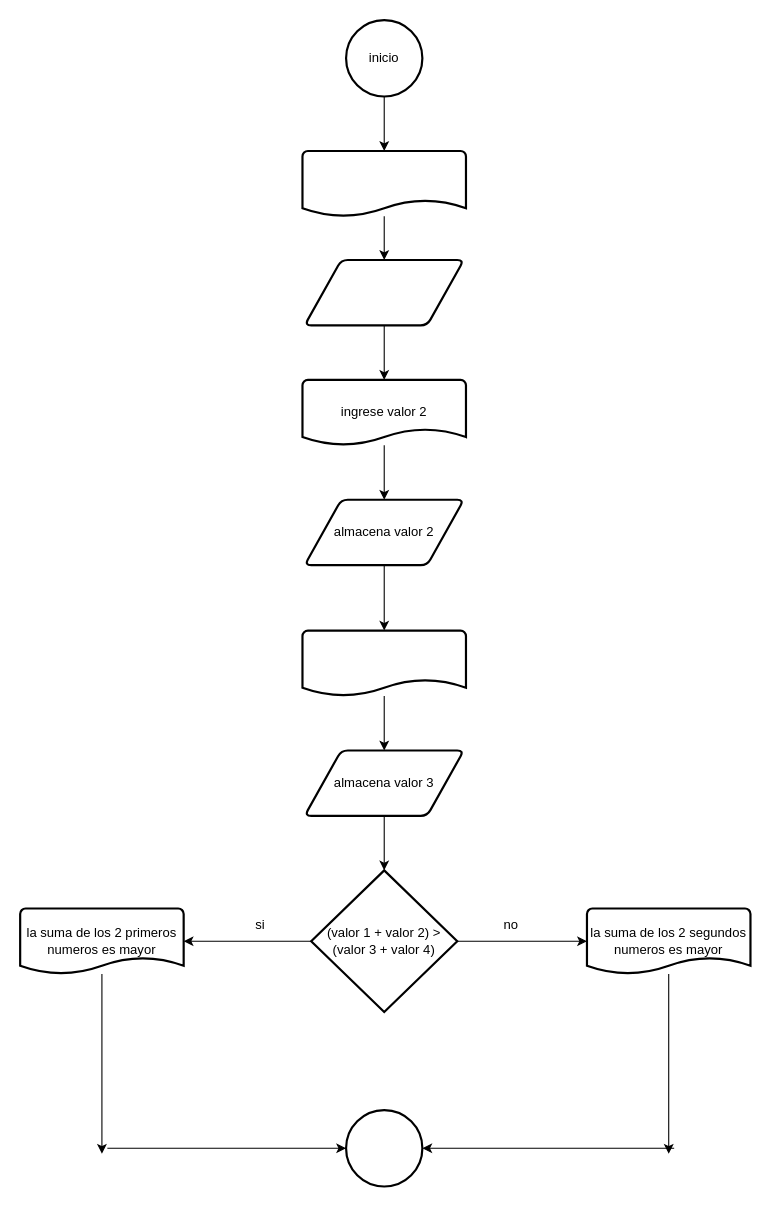
The diagram is 770 pixels wide and 1206 high, and some of its shapes have lost their labels. The shapes that lost their labels are listed below. From the top down, each one's centre as x and y in pixels, then its label:
At point 384,183: "ingrese valor 1".
At point 383,292: "almacena valor 1".
At point 384,663: "ingrese valor 3".
At point 383,1148: "fin".
